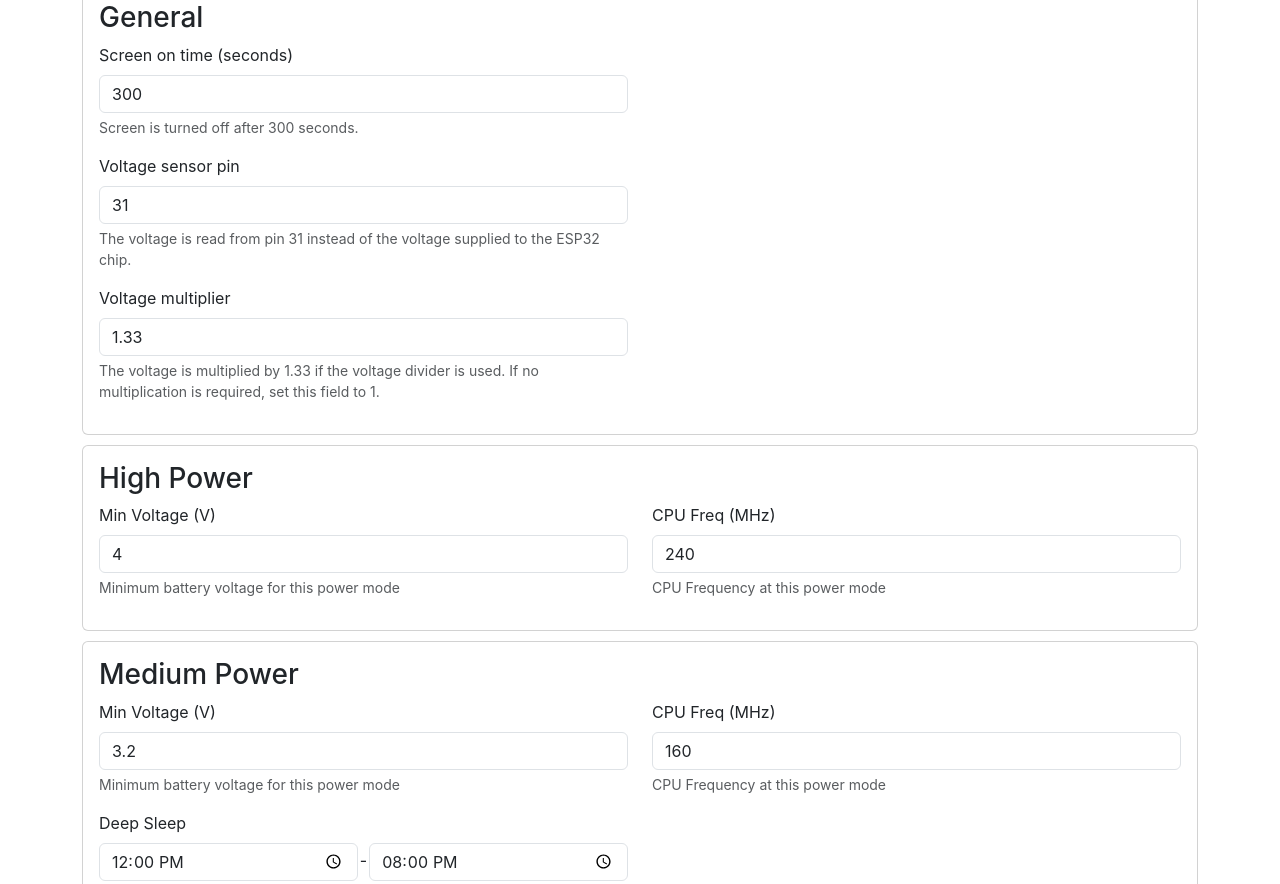
Test case: when saving › validation error when incorrect high power min voltage
Clear the number field with test id "high-power-min-voltage": {"x": 364, "y": 554} [99,535,628,573]
(page scrolled)
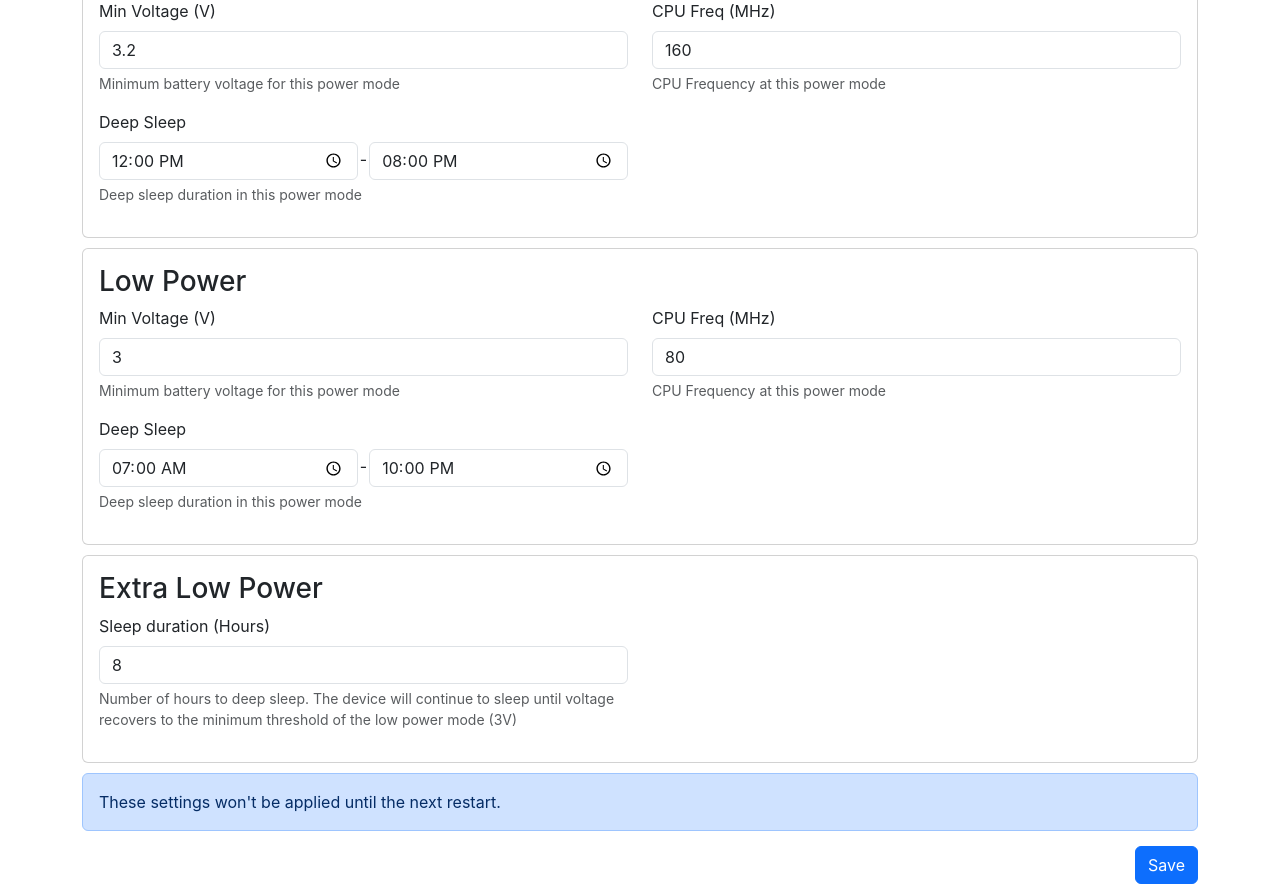
Click the button with test id "save-button": {"x": 1166, "y": 865} [1135,846,1198,883]
(page scrolled)
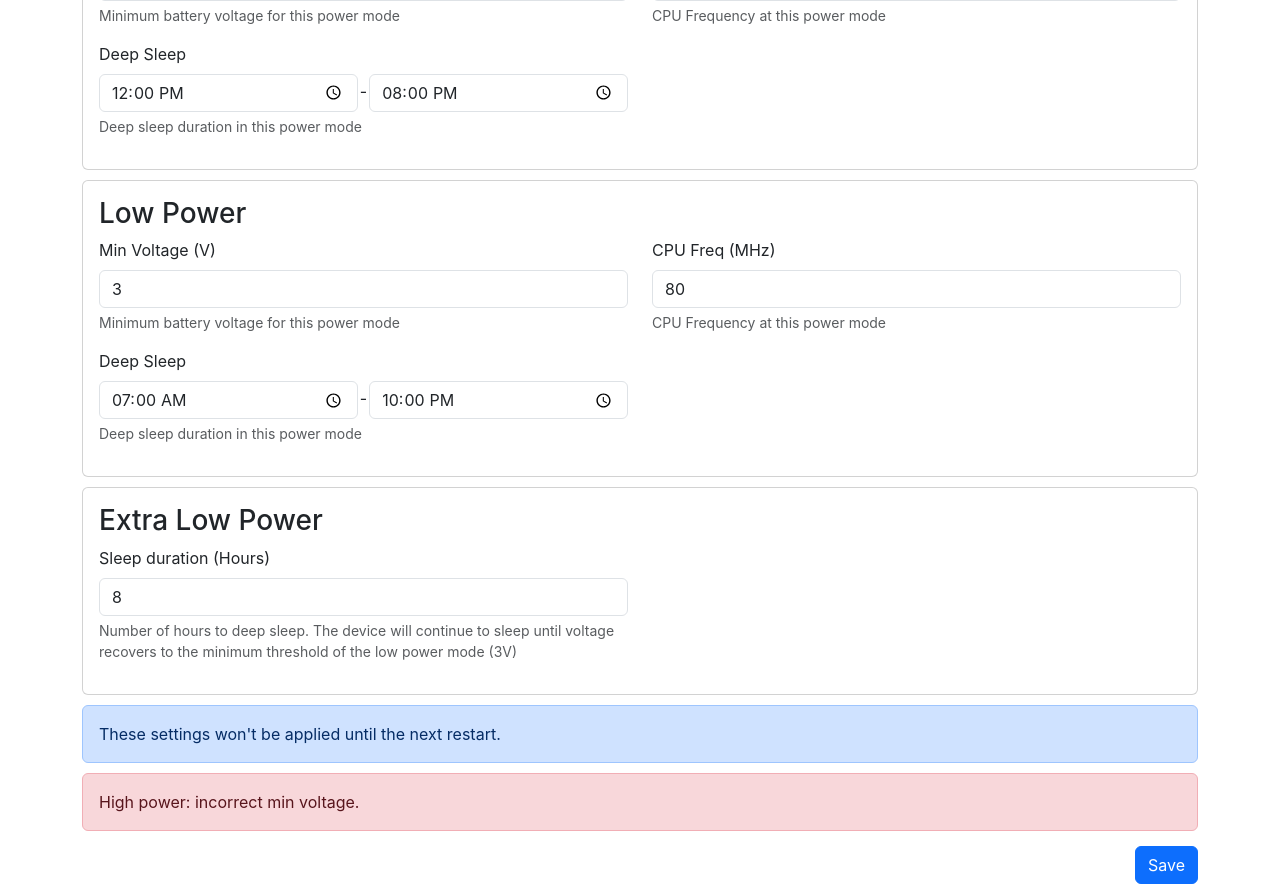
Expected: the element with test id "power-config-validation-error" shows "High power: incorrect min voltage", [99,792,360,812]
